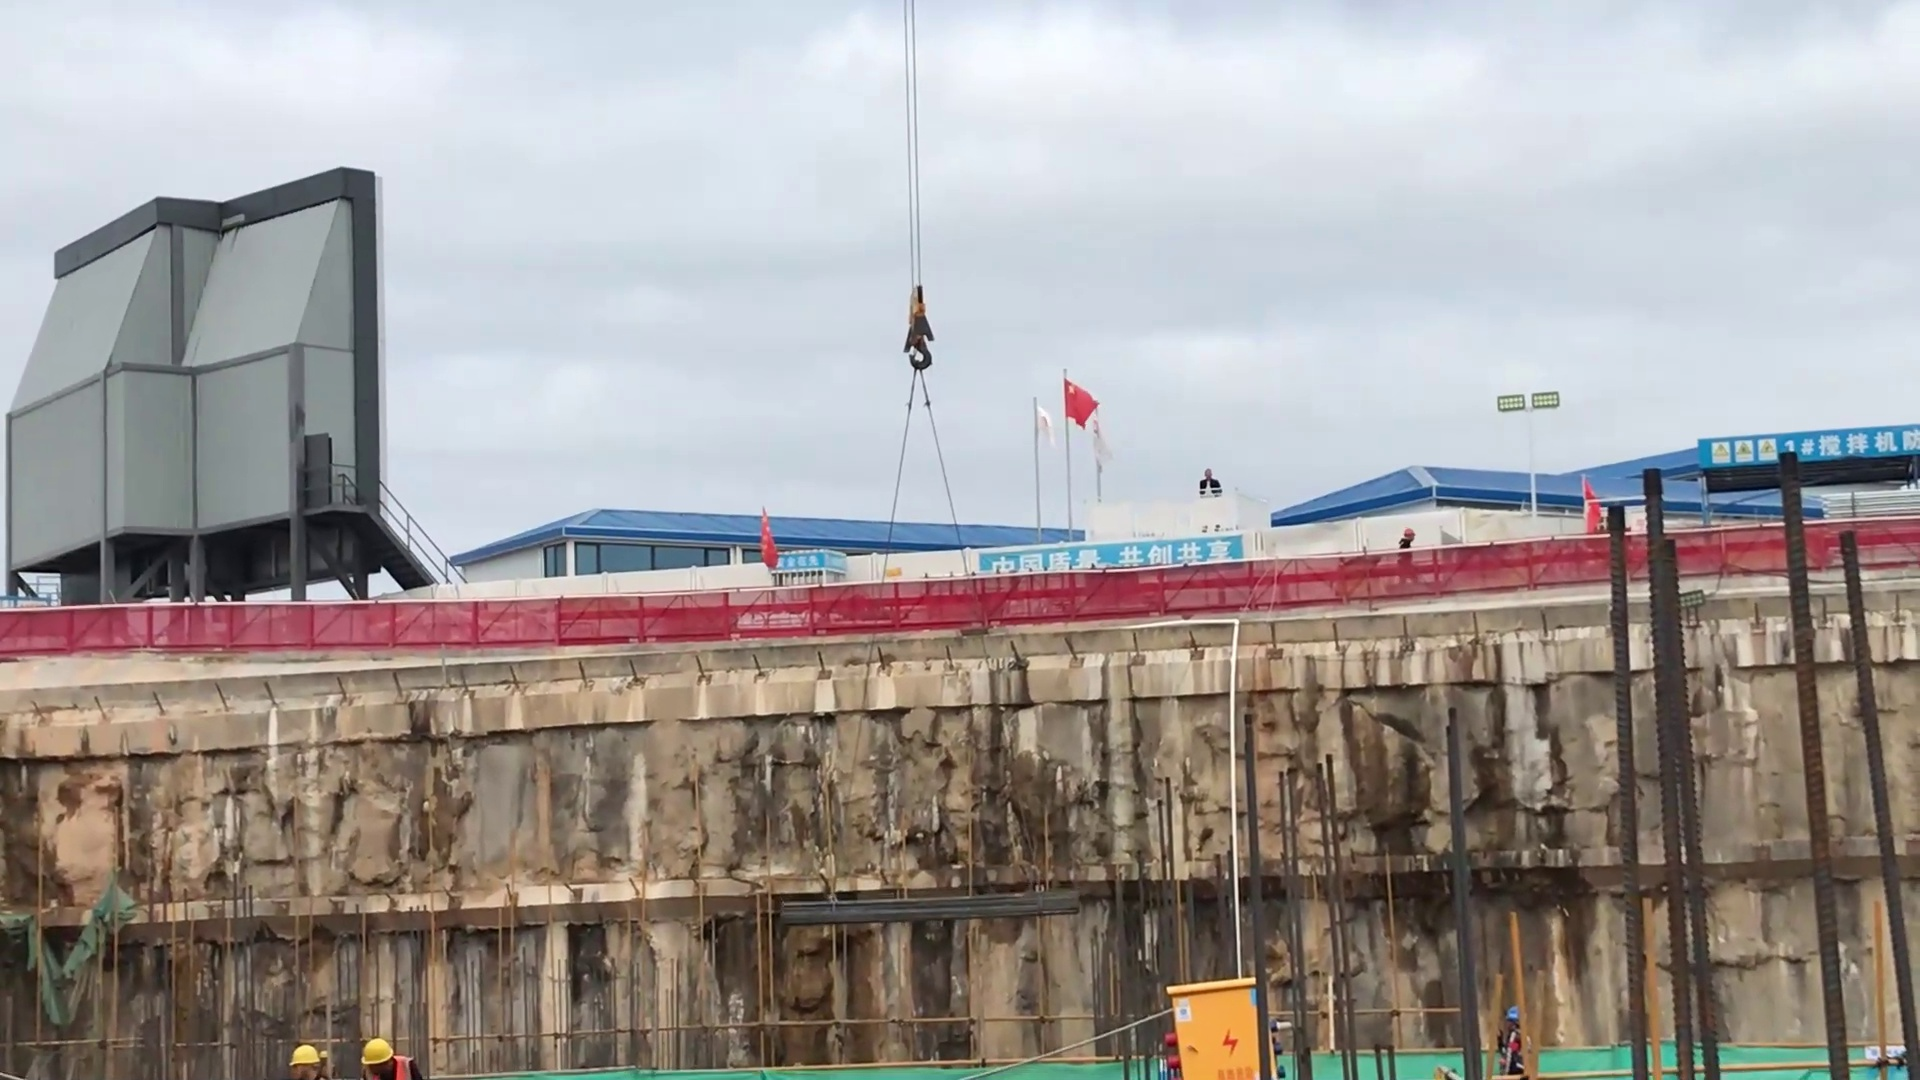ebox: (1158, 969, 1274, 1077)
fence: (4, 588, 978, 680), (1255, 549, 1595, 623), (945, 574, 1275, 627)
helmet: (281, 1039, 332, 1064), (355, 1035, 394, 1064), (1400, 525, 1415, 537)
hook: (898, 280, 942, 377)
person: (350, 1022, 459, 1080), (278, 1029, 327, 1080), (1393, 520, 1427, 574), (1194, 460, 1229, 501)
slogan: (1703, 425, 1920, 477), (980, 538, 1243, 578), (771, 548, 839, 572)
